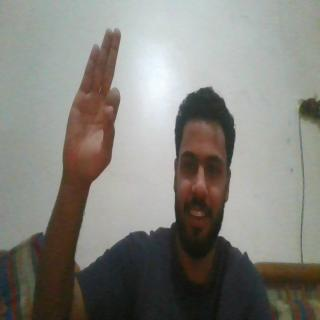Space: (61, 27, 126, 185)
